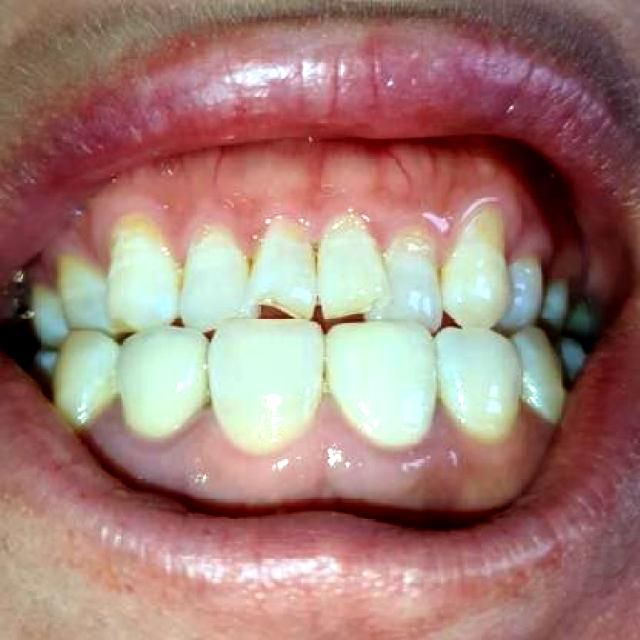Plaque: (55, 205, 507, 299)
